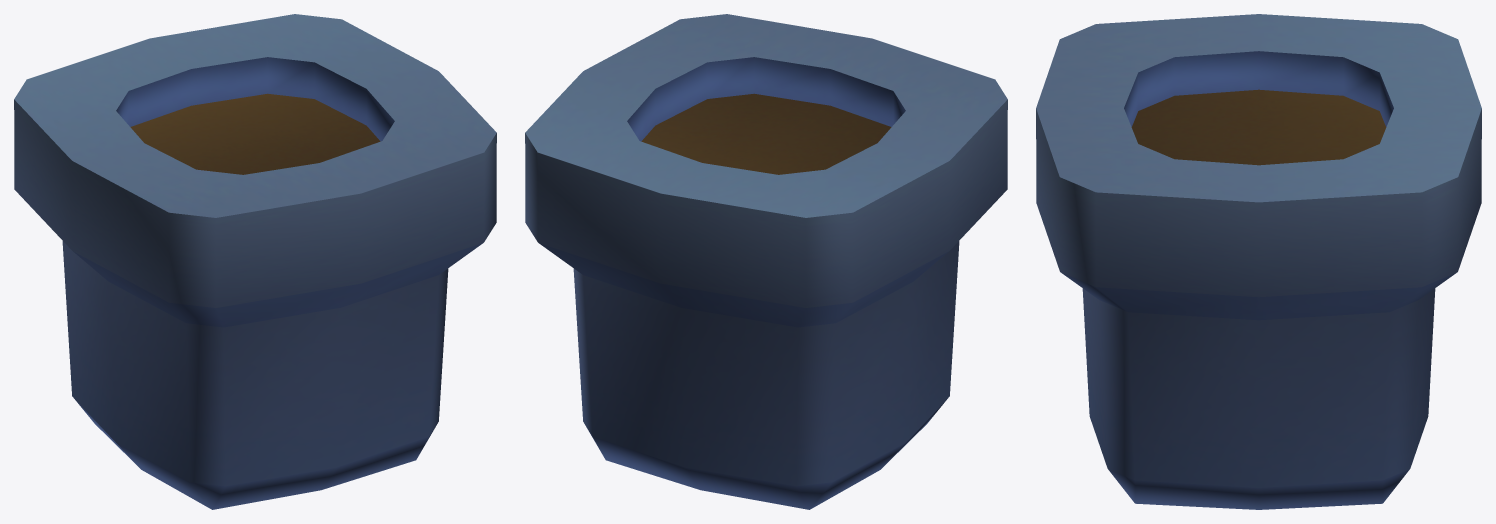
Rendered from flower_pot_small_blue.fbx.
3 renders of one model, left to right at view 1: azimuth 30°, elevation 25°; view 2: azimuth 150°, elevation 25°; view 3: azimuth 270°, elevation 25°, orthographic. The views are drawn at different scales.
Parts seen in each view (by area): view 1: flower_pot_small_blue; view 2: flower_pot_small_blue; view 3: flower_pot_small_blue.
Part boxes in pixels (<box>): flower_pot_small_blue: <box>14,14,496,509</box>; flower_pot_small_blue: <box>525,14,1007,509</box>; flower_pot_small_blue: <box>1036,14,1481,509</box>.
Bounding box in the file's own units: 29.43 × 25 × 29.43.
